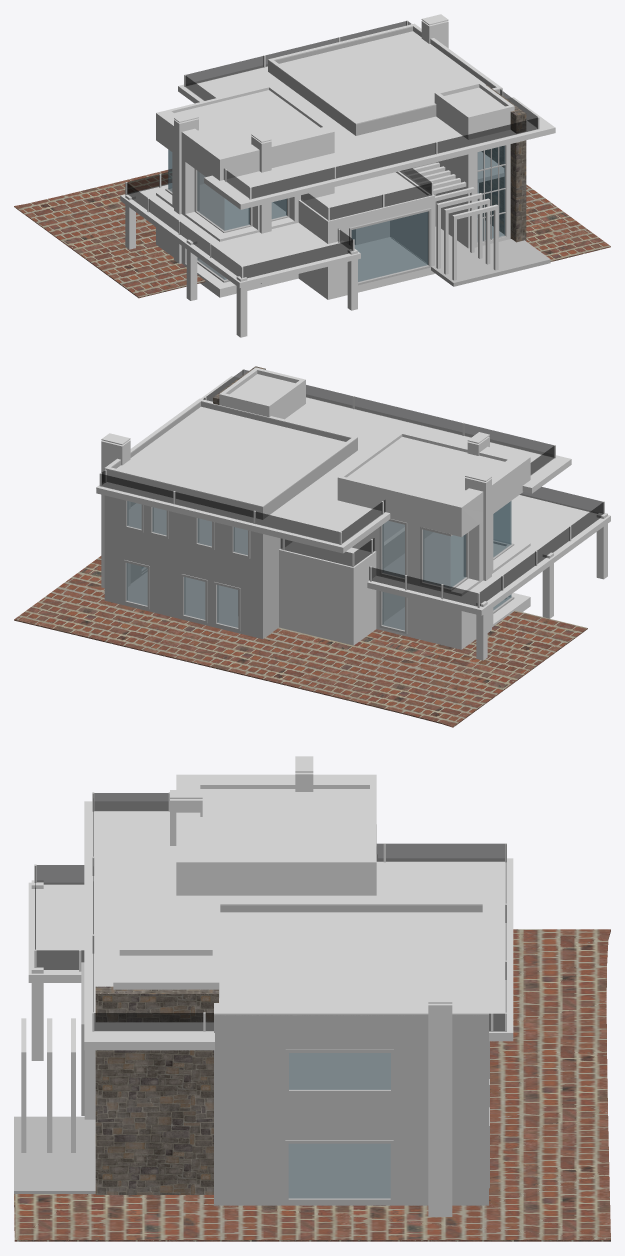
File: casa6.fbx
The picture shows the model from 3 angles, top to bottom: view 1: azimuth 30°, elevation 25°; view 2: azimuth 150°, elevation 25°; view 3: azimuth 270°, elevation 25°; orthographic projection. The views are drawn at different scales.
Visible parts, largest first — view 1: Line005_Solid Glass_0, Object002_03 - Default_0, Rectangle008_03 - Default_0, Rectangle001_14 - Polished Aluminum_0, Object001_03 - Default_0, Line006_02 - Default_0, Rectangle002_15 - Glossy Plastic_0, Rectangle012_03 - Default_0, Rectangle004_17 - Old Copper #1_0, Shape035_12 - Car Paint_0, Rectangle003_16 - Matte Plastic_0, Line009_02 - Default_0 (+30 smaller); view 2: Line005_Solid Glass_0, Rectangle003_16 - Matte Plastic_0, Rectangle008_03 - Default_0, Object002_03 - Default_0, Rectangle001_14 - Polished Aluminum_0, Rectangle002_15 - Glossy Plastic_0, Line006_02 - Default_0, Object001_03 - Default_0, Rectangle012_03 - Default_0, Line009_02 - Default_0, Object003_20 - Polished Aluminum_0, Rectangle016_04 - Default_0 (+27 smaller); view 3: Line005_Solid Glass_0, Rectangle003_16 - Matte Plastic_0, Object002_03 - Default_0, Rectangle008_03 - Default_0, Box033_18 - Rubber_0, Rectangle012_03 - Default_0, Rectangle001_14 - Polished Aluminum_0, Line006_02 - Default_0, Rectangle018_21 - Default_0, Shape033_12 - Car Paint_0, Rectangle007_04 - Default_0, Box028_01 - Default_0 (+18 smaller).
Part boxes in pixels (box(x1,y1,x2,y2)): Line005_Solid Glass_0: box(14, 169, 610, 298); Object002_03 - Default_0: box(178, 64, 555, 204); Rectangle008_03 - Default_0: box(279, 31, 485, 121); Rectangle001_14 - Polished Aluminum_0: box(156, 88, 334, 297); Object001_03 - Default_0: box(120, 183, 360, 283); Line006_02 - Default_0: box(185, 21, 537, 198); Rectangle002_15 - Glossy Plastic_0: box(273, 172, 434, 299); Rectangle012_03 - Default_0: box(174, 90, 319, 150); Rectangle004_17 - Old Copper #1_0: box(434, 85, 514, 248); Shape035_12 - Car Paint_0: box(351, 211, 427, 281); Rectangle003_16 - Matte Plastic_0: box(268, 27, 502, 244); Line009_02 - Default_0: box(127, 172, 352, 277); Line005_Solid Glass_0: box(14, 556, 587, 727); Rectangle003_16 - Matte Plastic_0: box(104, 402, 357, 638); Rectangle008_03 - Default_0: box(116, 406, 345, 503); Object002_03 - Default_0: box(96, 376, 571, 548); Rectangle001_14 - Polished Aluminum_0: box(337, 434, 530, 649); Rectangle002_15 - Glossy Plastic_0: box(238, 530, 433, 645); Line006_02 - Default_0: box(101, 370, 554, 544); Object001_03 - Default_0: box(367, 494, 610, 610); Rectangle012_03 - Default_0: box(347, 437, 504, 502); Line009_02 - Default_0: box(369, 487, 603, 606); Object003_20 - Polished Aluminum_0: box(337, 427, 530, 508); Rectangle016_04 - Default_0: box(384, 532, 504, 586); Line005_Solid Glass_0: box(14, 929, 610, 1241); Rectangle003_16 - Matte Plastic_0: box(214, 905, 488, 1205); Object002_03 - Default_0: box(84, 801, 513, 1042); Rectangle008_03 - Default_0: box(220, 912, 482, 1010); Box033_18 - Rubber_0: box(95, 986, 218, 1194); Rectangle012_03 - Default_0: box(200, 789, 369, 859); Rectangle001_14 - Polished Aluminum_0: box(176, 785, 376, 895); Line006_02 - Default_0: box(93, 793, 506, 1031); Rectangle018_21 - Default_0: box(14, 1116, 95, 1193); Shape033_12 - Car Paint_0: box(288, 1143, 390, 1198); Rectangle007_04 - Default_0: box(288, 1143, 390, 1196); Box028_01 - Default_0: box(428, 1003, 452, 1216).
Size of the model in its own units: 2242 by 783 by 1822.
